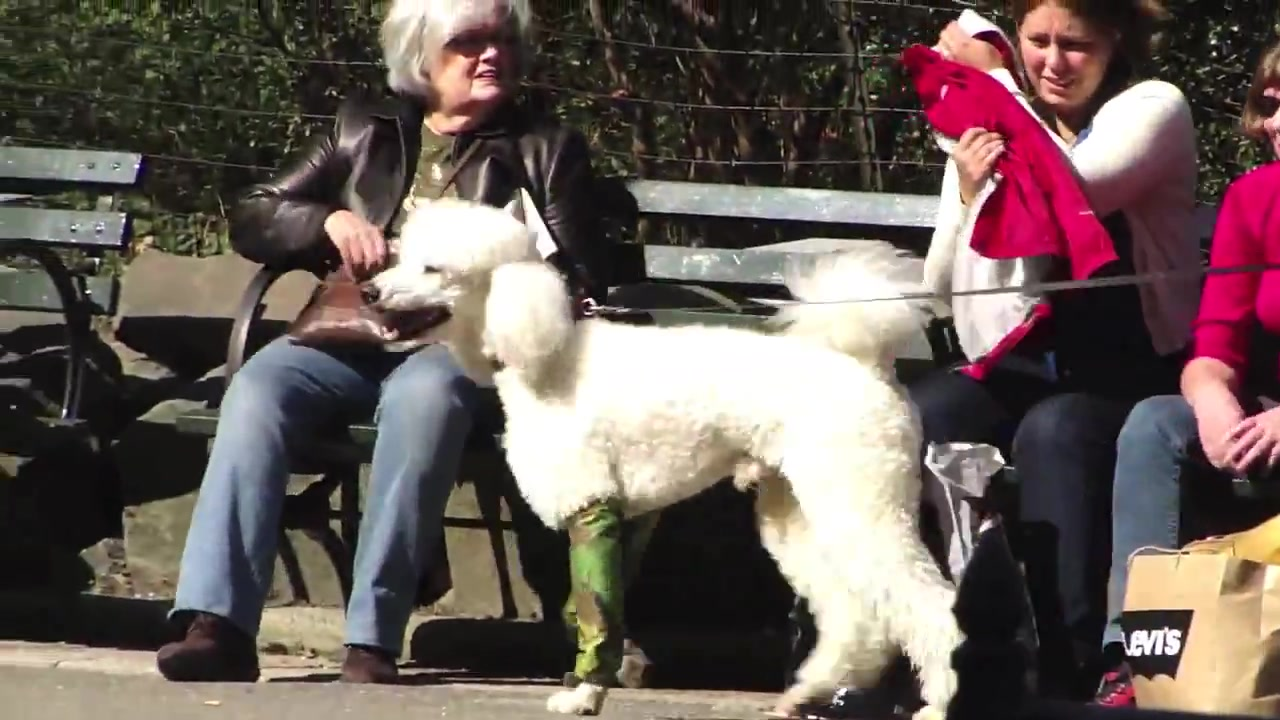dog: (355, 198, 971, 720)
